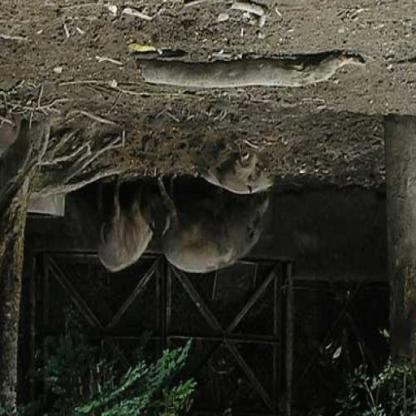boar: (161, 186, 279, 293), (84, 146, 167, 281), (209, 137, 276, 205)
